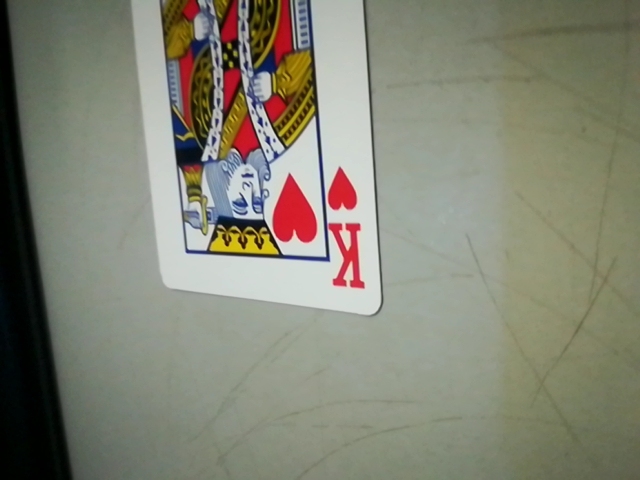hx k: (320, 159, 374, 300)
